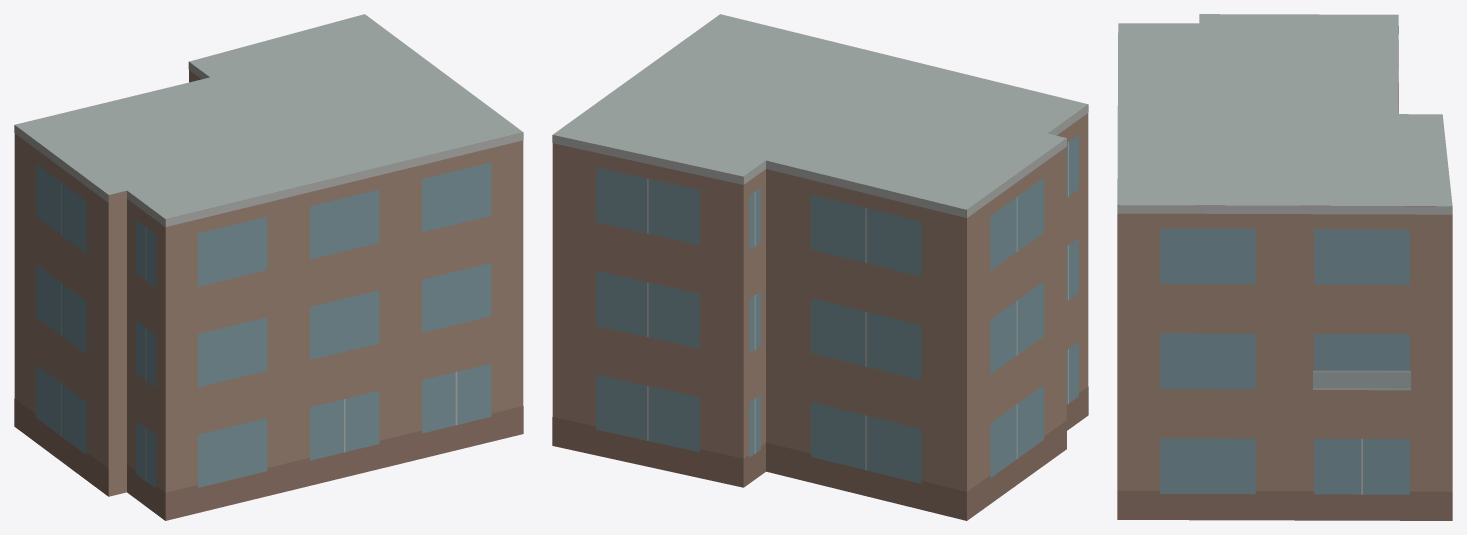
Rendered from survey-upis-32737662.glb.
3 renders of one model, left to right at view 1: azimuth 30°, elevation 25°; view 2: azimuth 150°, elevation 25°; view 3: azimuth 270°, elevation 25°, orthographic. The views are drawn at different scales.
Parts seen in each view (by area): view 1: survey-upis-32737662.tmp; view 2: survey-upis-32737662.tmp; view 3: survey-upis-32737662.tmp.
Boxes of the visible parts, x1=… form: survey-upis-32737662.tmp: x1=14, y1=14, x2=523, y2=520; survey-upis-32737662.tmp: x1=552, y1=14, x2=1088, y2=520; survey-upis-32737662.tmp: x1=1117, y1=14, x2=1452, y2=520.
Size of the model in its own units: 11.95 by 9.1 by 8.8.
